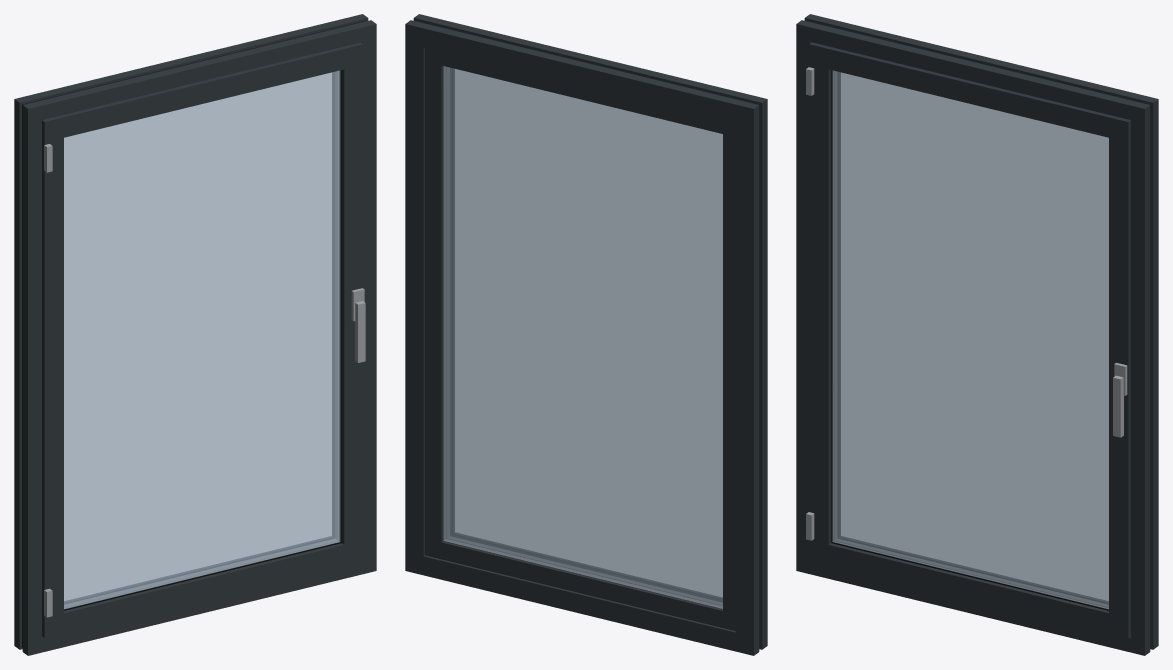
Rendered from conceptsystem-68.glb.
3 renders of one model, left to right at view 1: azimuth 30°, elevation 25°; view 2: azimuth 150°, elevation 25°; view 3: azimuth 330°, elevation 25°, orthographic.
Parts seen in each view (by area): view 1: ConceptSystem 68; view 2: ConceptSystem 68; view 3: ConceptSystem 68.
Boxes of the visible parts, left/top/right/bottom form: ConceptSystem 68: left=14, top=14, right=376, bottom=655; ConceptSystem 68: left=405, top=14, right=767, bottom=655; ConceptSystem 68: left=796, top=14, right=1158, bottom=655.
Bounding box in the file's own units: 1 × 1.5 × 0.101.
